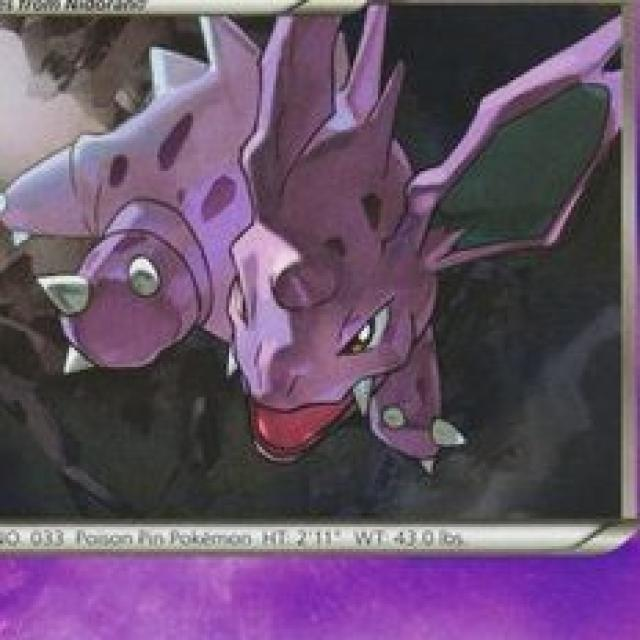Nidorino: (36, 7, 622, 456)
